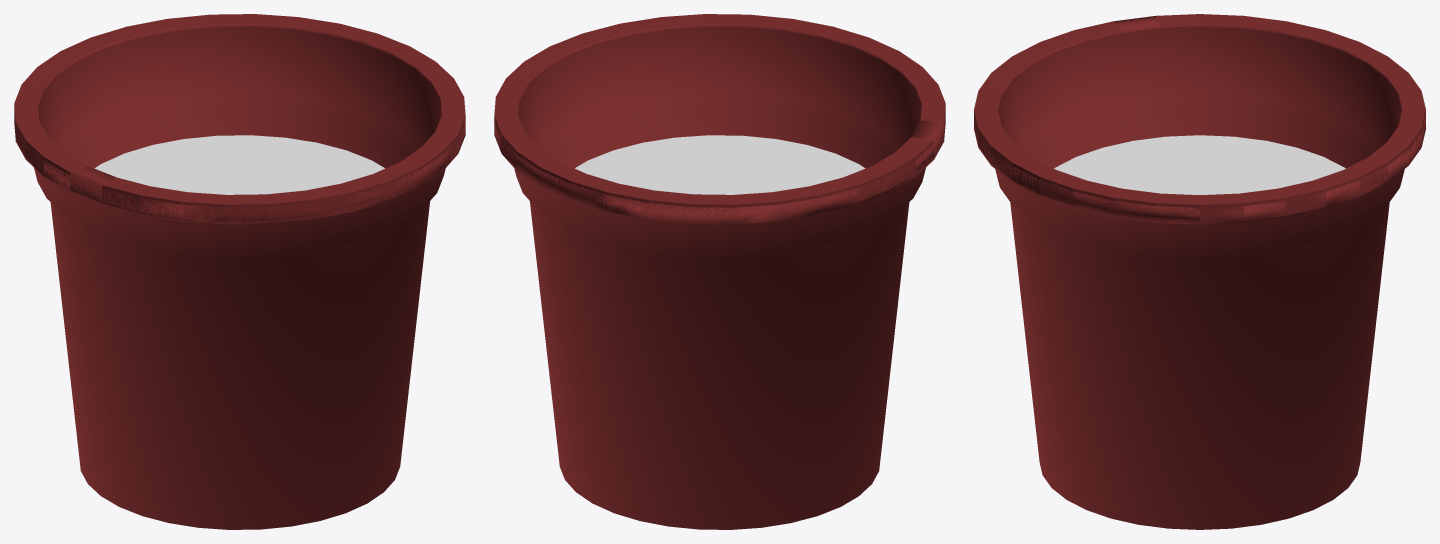
Rendered from Ember.fbx.
3 renders of one model, left to right at view 1: azimuth 30°, elevation 25°; view 2: azimuth 150°, elevation 25°; view 3: azimuth 270°, elevation 25°, orthographic.
Parts seen in each view (by area): view 1: Ember; view 2: Ember; view 3: Ember.
Boxes of the visible parts, x1,y1,x2,y2 form: Ember: [14, 14, 465, 529]; Ember: [494, 14, 945, 529]; Ember: [974, 14, 1425, 529].
Size of the model in its own units: 0.6423 by 0.6423 by 0.553.
